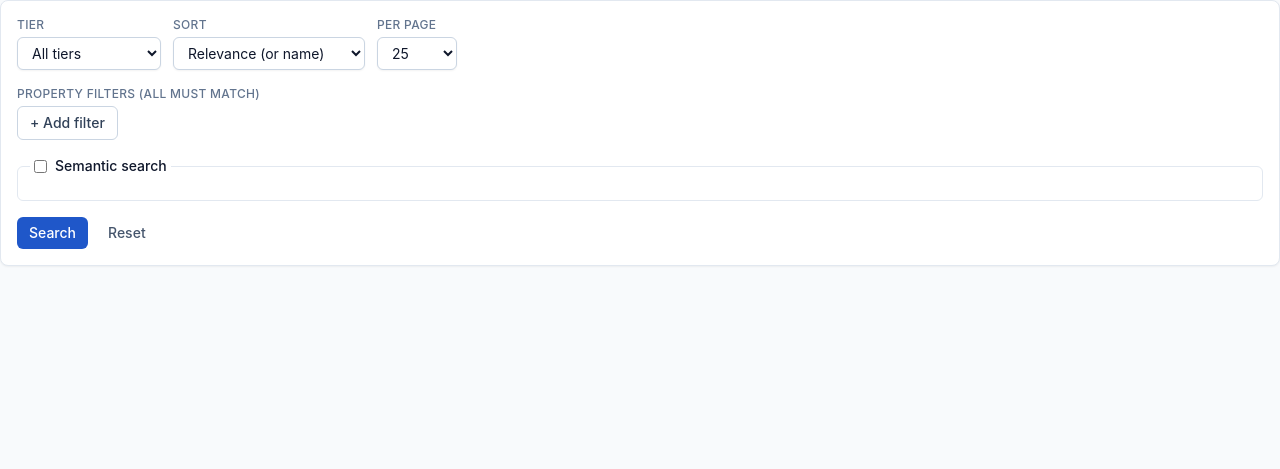
Test: only embeddable properties are offered for semantic search
Click the checkbox labelled "Semantic search" at (40,166), box [34,160,47,172]
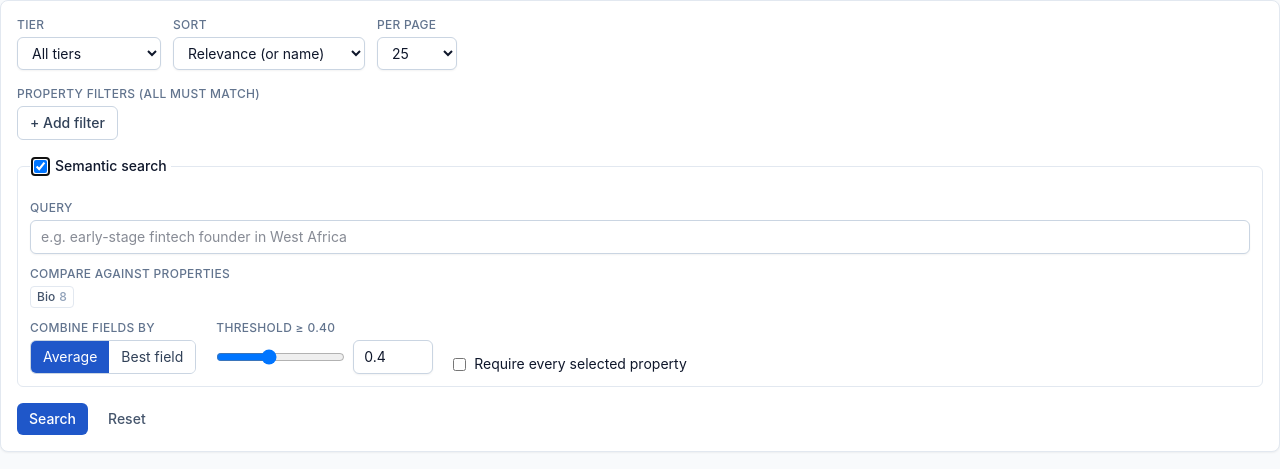
Expected: the element named "Semantic fields" does not show "MRR", [30,286,74,308]
Now the element named "Semantic fields" shows "Bio", box [30,286,74,308]
